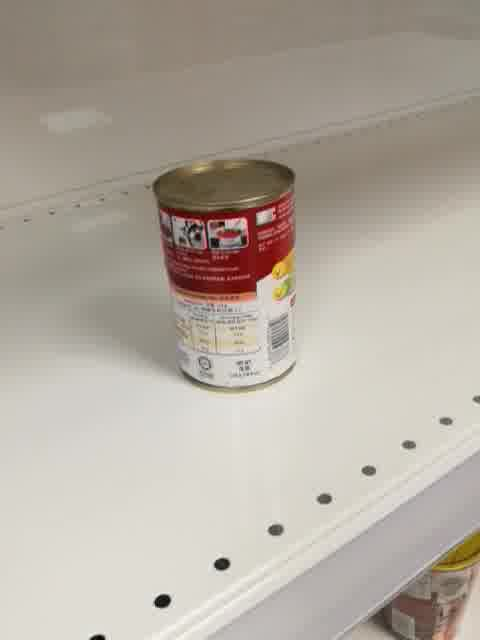tomatosoup: (152, 157, 301, 393)
